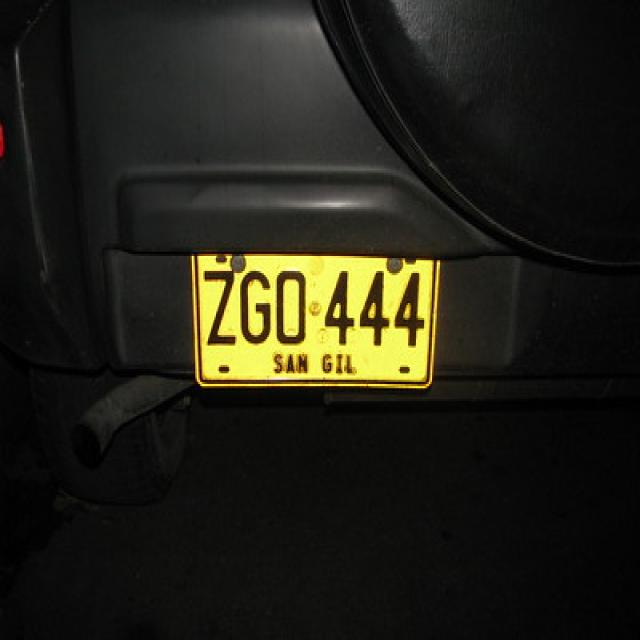placa_carro: (176, 230, 447, 402)
